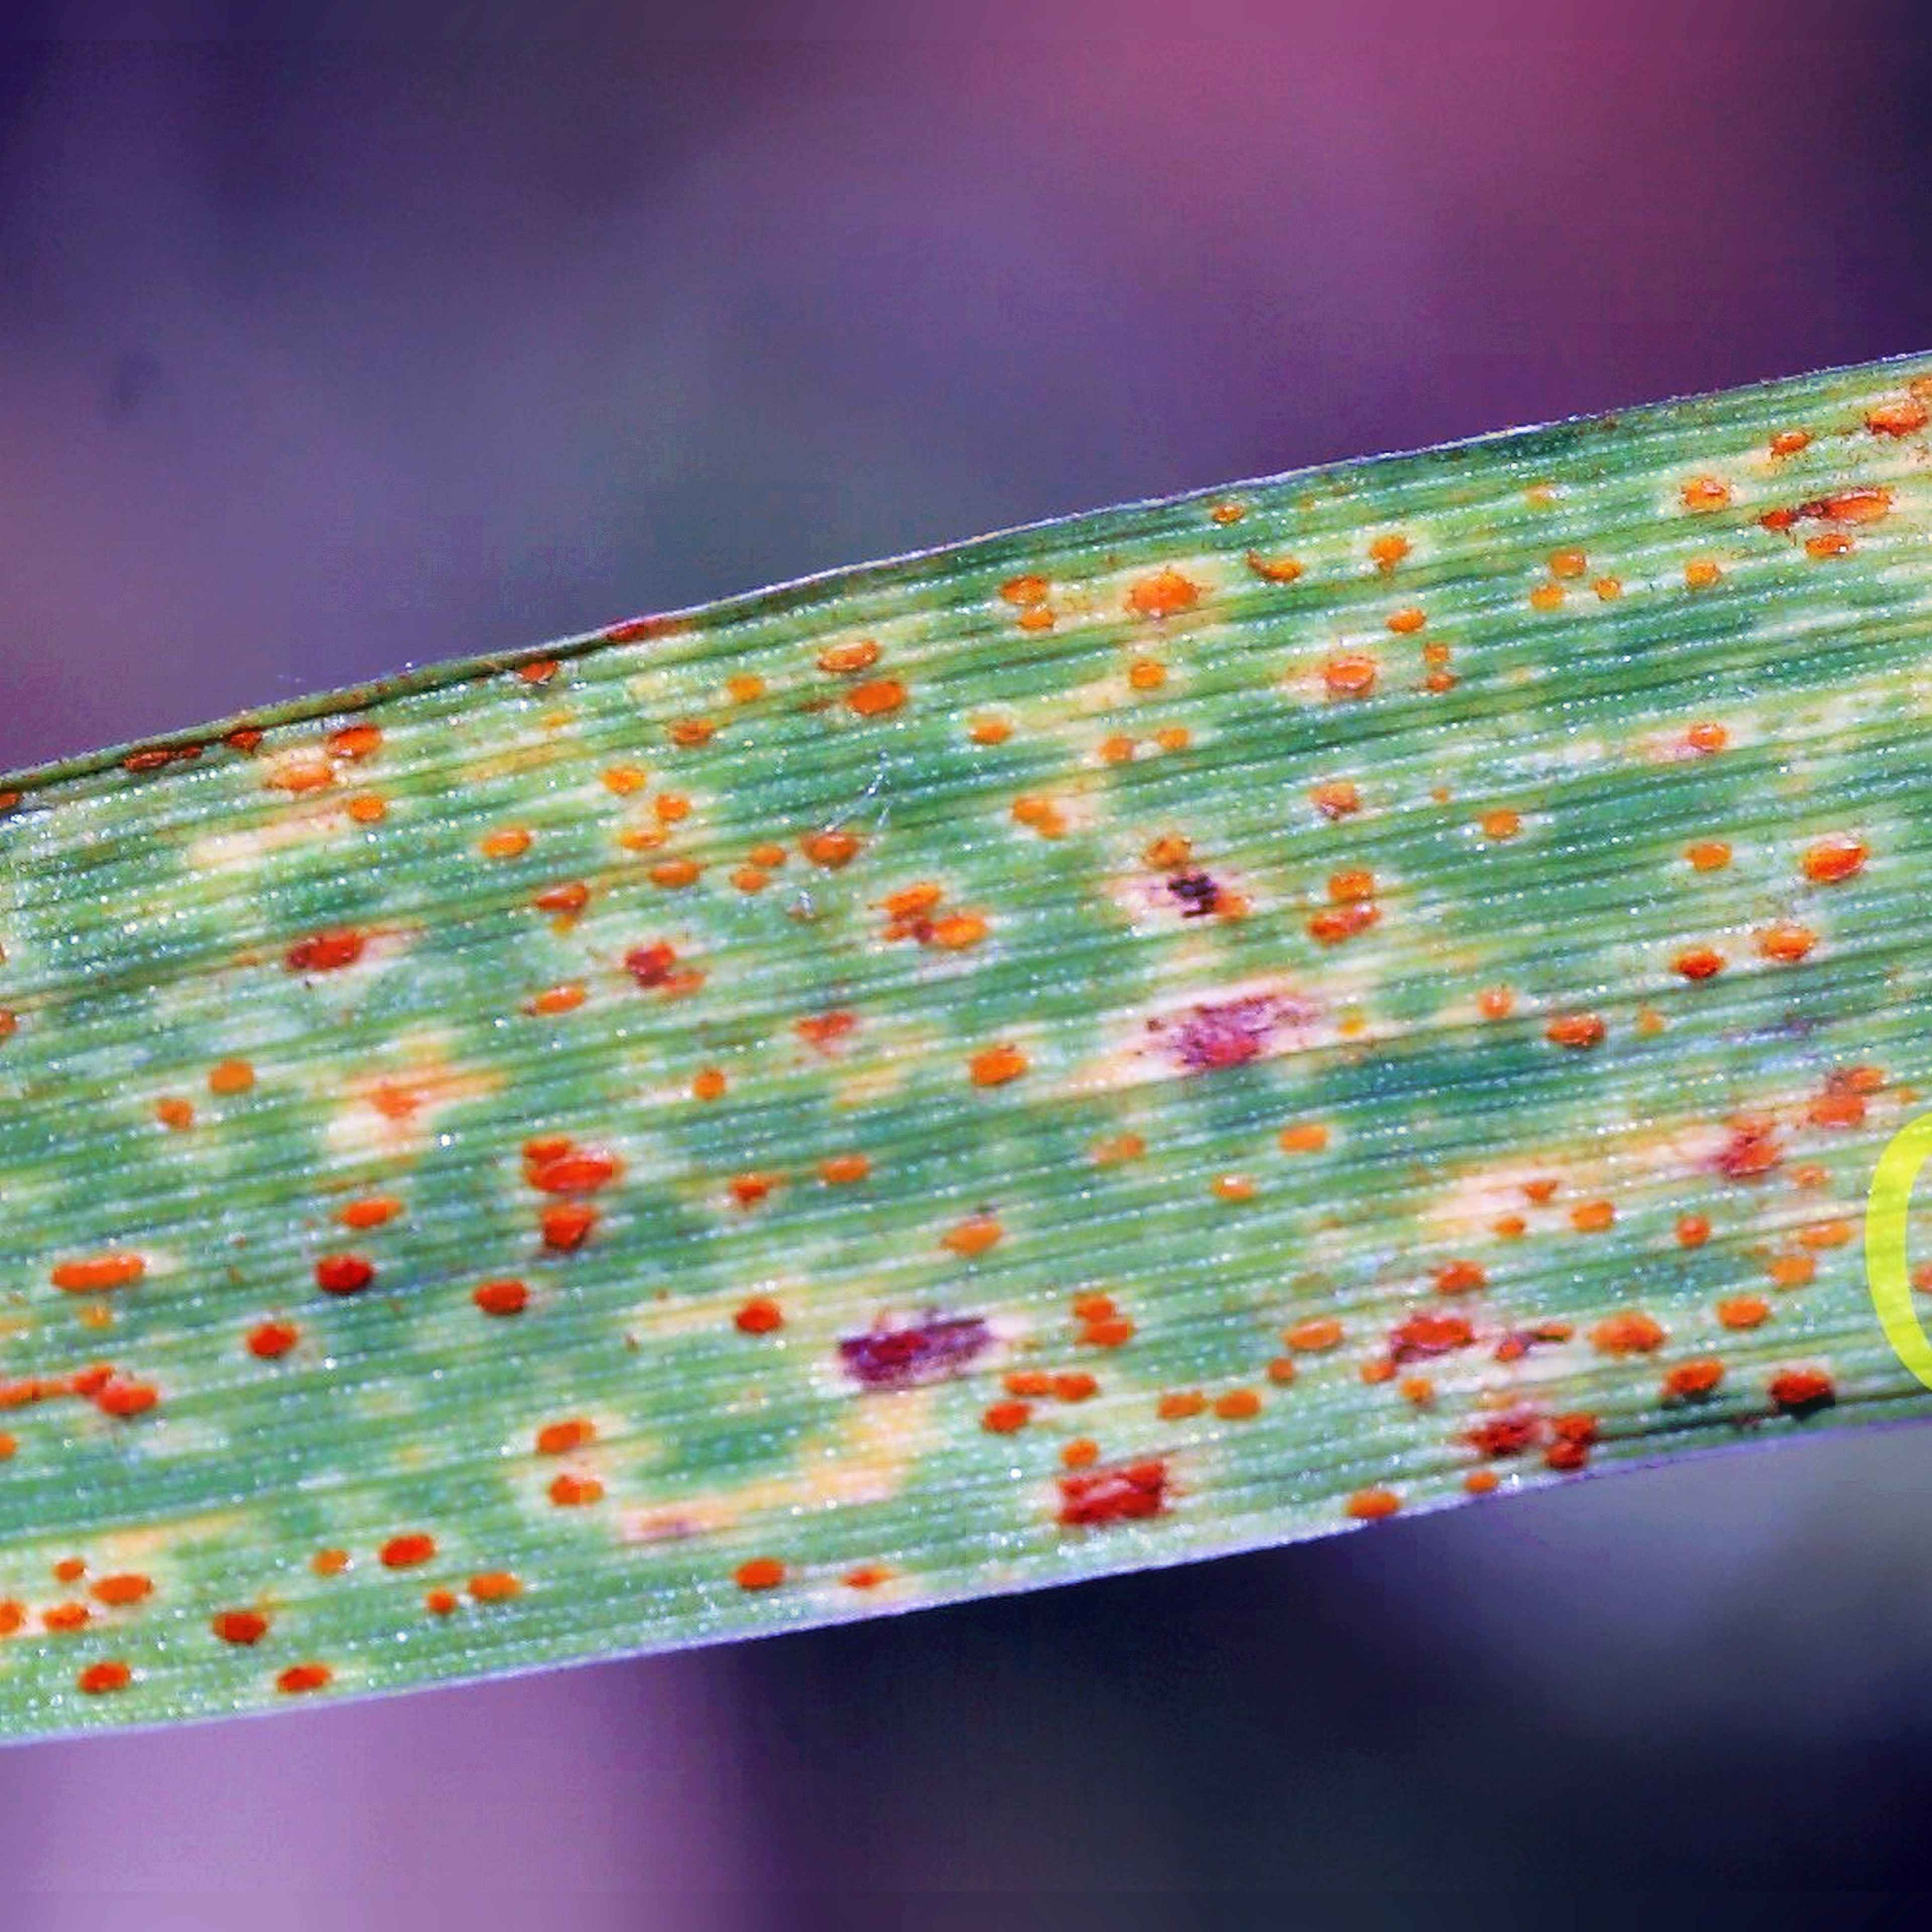Leaf Rust: (62, 356, 1872, 1721)
